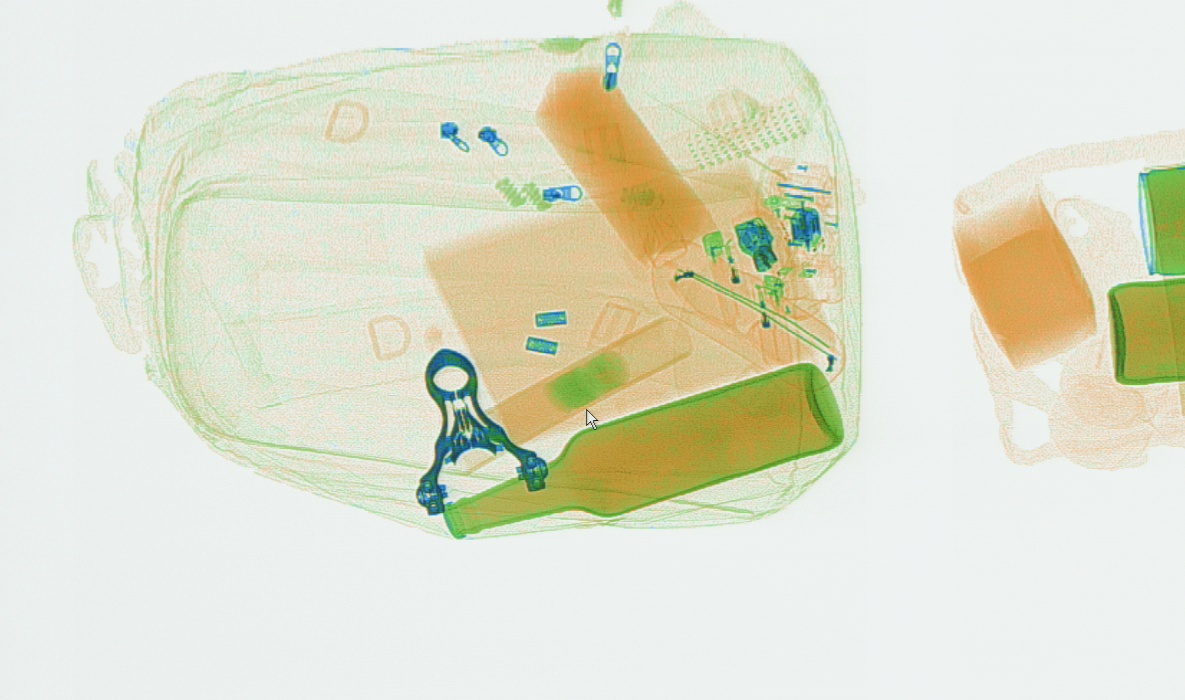firecrackers: (444, 313, 692, 474)
lighter: (698, 229, 754, 324), (752, 271, 793, 363)
slingshot: (415, 347, 546, 513)
